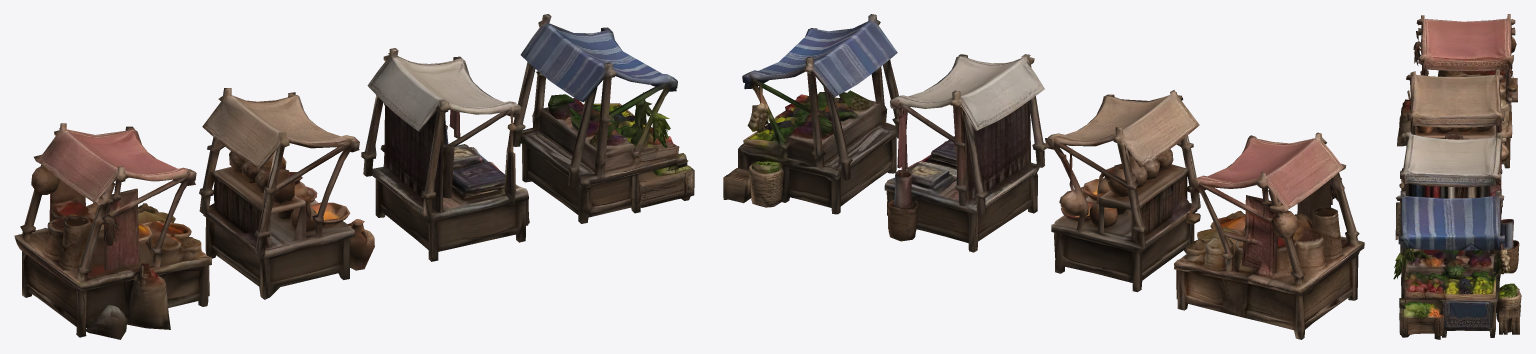
Rendered from market_stalls.glb.
The picture shows the model from 3 angles, left to right: view 1: azimuth 30°, elevation 25°; view 2: azimuth 150°, elevation 25°; view 3: azimuth 270°, elevation 25°; orthographic projection. The views are drawn at different scales.
Parts seen in each view (by area): view 1: stall_spice, stall_produce, stall_pottery, stall_cloth; view 2: stall_spice, stall_produce, stall_cloth, stall_pottery; view 3: stall_produce, stall_cloth, stall_spice, stall_pottery.
Boxes of the visible parts, x1=… form: stall_spice: x1=14, y1=123, x2=211, y2=339; stall_produce: x1=510, y1=14, x2=694, y2=223; stall_pottery: x1=199, y1=88, x2=374, y2=299; stall_cloth: x1=361, y1=48, x2=529, y2=261; stall_spice: x1=1174, y1=132, x2=1364, y2=339; stall_produce: x1=723, y1=14, x2=902, y2=214; stall_cloth: x1=884, y1=54, x2=1046, y2=252; stall_pottery: x1=1045, y1=90, x2=1200, y2=292; stall_produce: x1=1393, y1=190, x2=1521, y2=339; stall_cloth: x1=1395, y1=131, x2=1519, y2=273; stall_spice: x1=1397, y1=14, x2=1517, y2=168; stall_pottery: x1=1406, y1=69, x2=1508, y2=162.
Size of the model in its own units: 1 by 0.2607 by 0.2449.
1 material, 1 textured.
